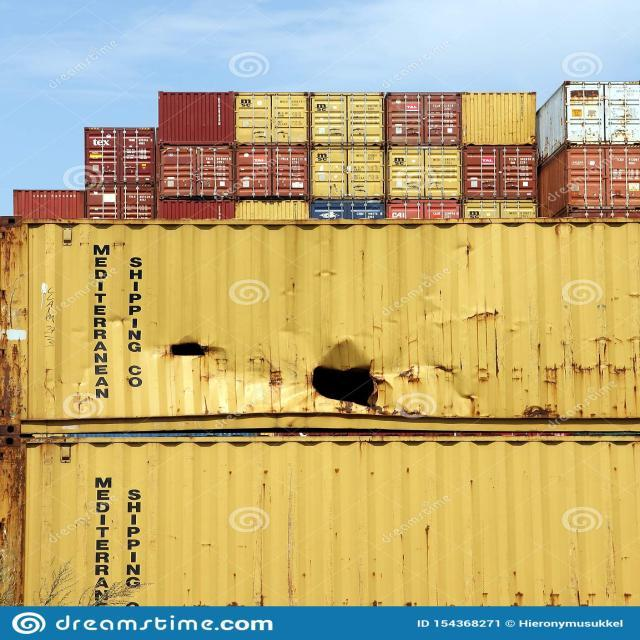hole: (295, 337, 407, 423), (151, 319, 235, 377)
rust: (484, 331, 610, 421)
